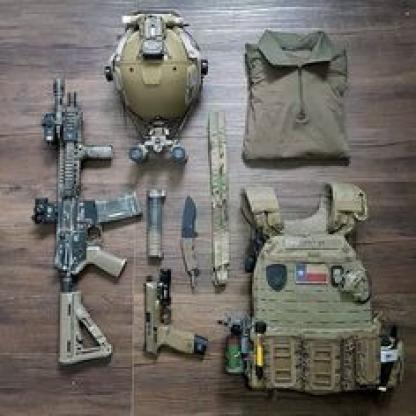Gun: (30, 75, 143, 367)
Knife: (178, 193, 205, 290)
Pistol: (140, 264, 210, 361)
